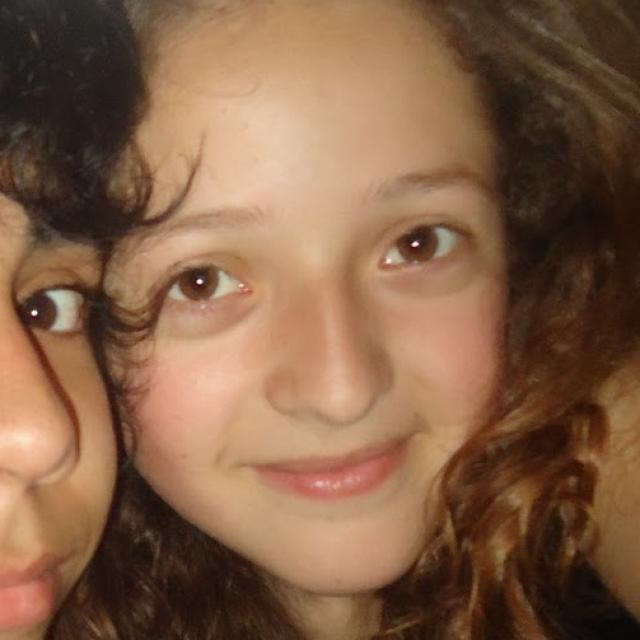Normal: (90, 0, 508, 588)
